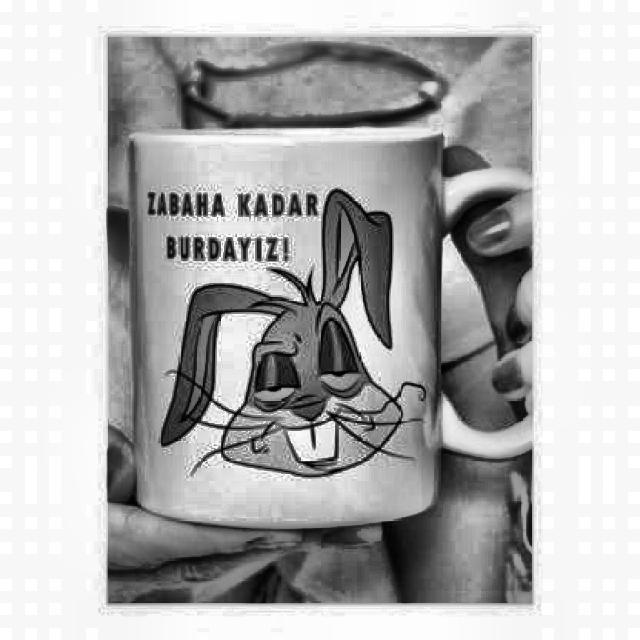Mug: (125, 129, 533, 529)
